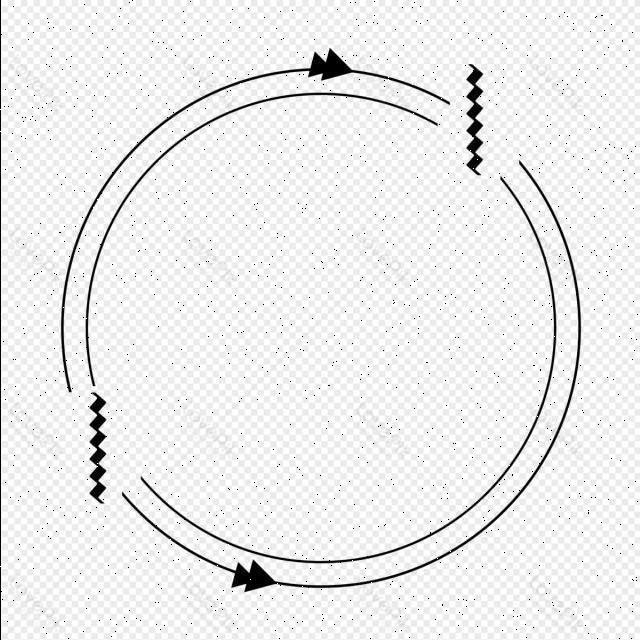Circle: (59, 55, 586, 592)
